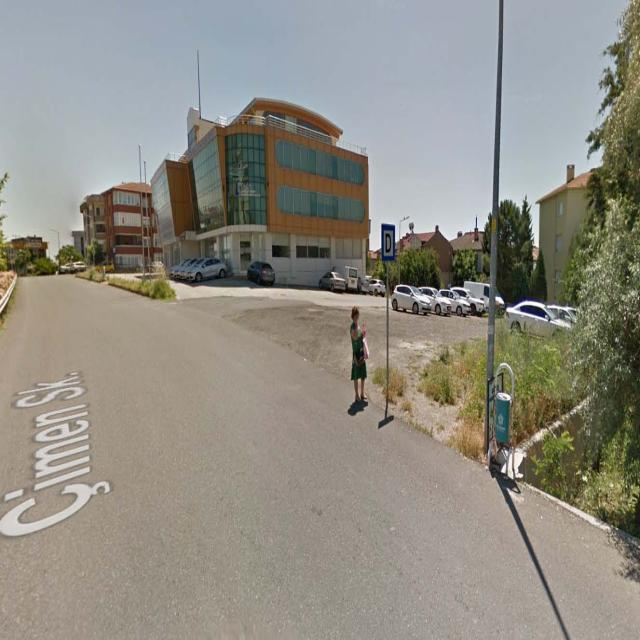durak: (381, 222, 396, 262)
